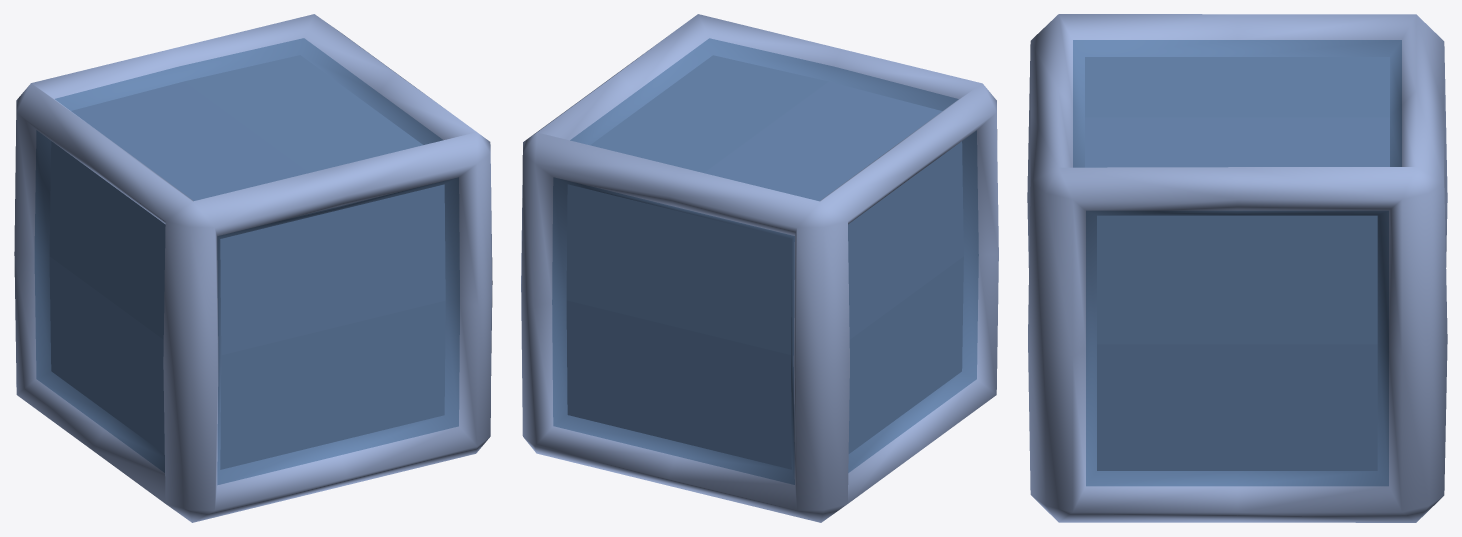
3 views of the same model, side by side, from view 1: azimuth 30°, elevation 25°; view 2: azimuth 150°, elevation 25°; view 3: azimuth 270°, elevation 25° (orthographic). The views are drawn at different scales.
Visible parts, largest first — view 1: Box; view 2: Box; view 3: Box.
Boxes of the visible parts, x1,y1,x2,y2 form: Box: [14, 14, 492, 522]; Box: [521, 14, 998, 522]; Box: [1027, 14, 1447, 522].
Size of the model in its own units: 200 by 187 by 200.
